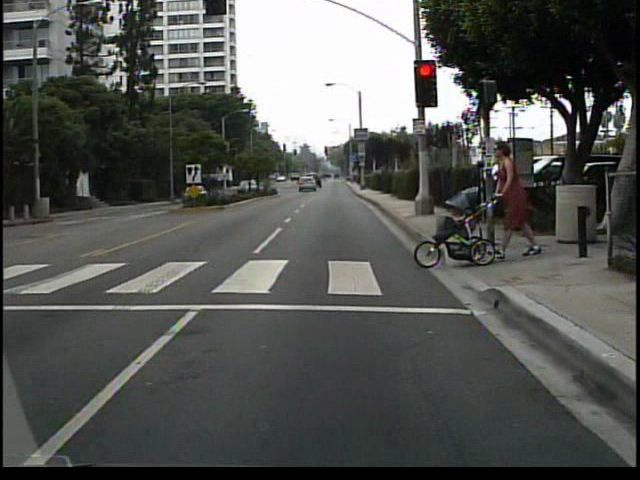person: (486, 142, 547, 265)
